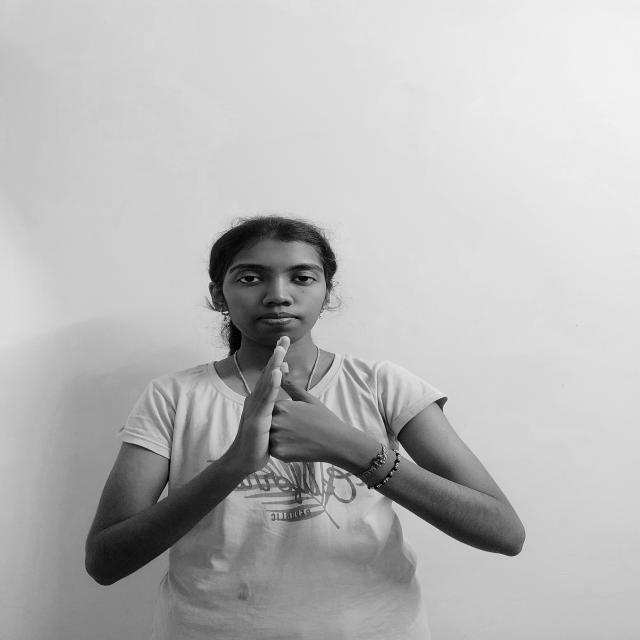Well Done: (220, 332, 372, 480)
